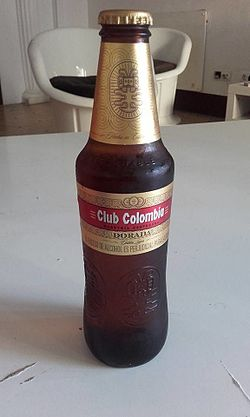botella: (73, 6, 177, 370)
